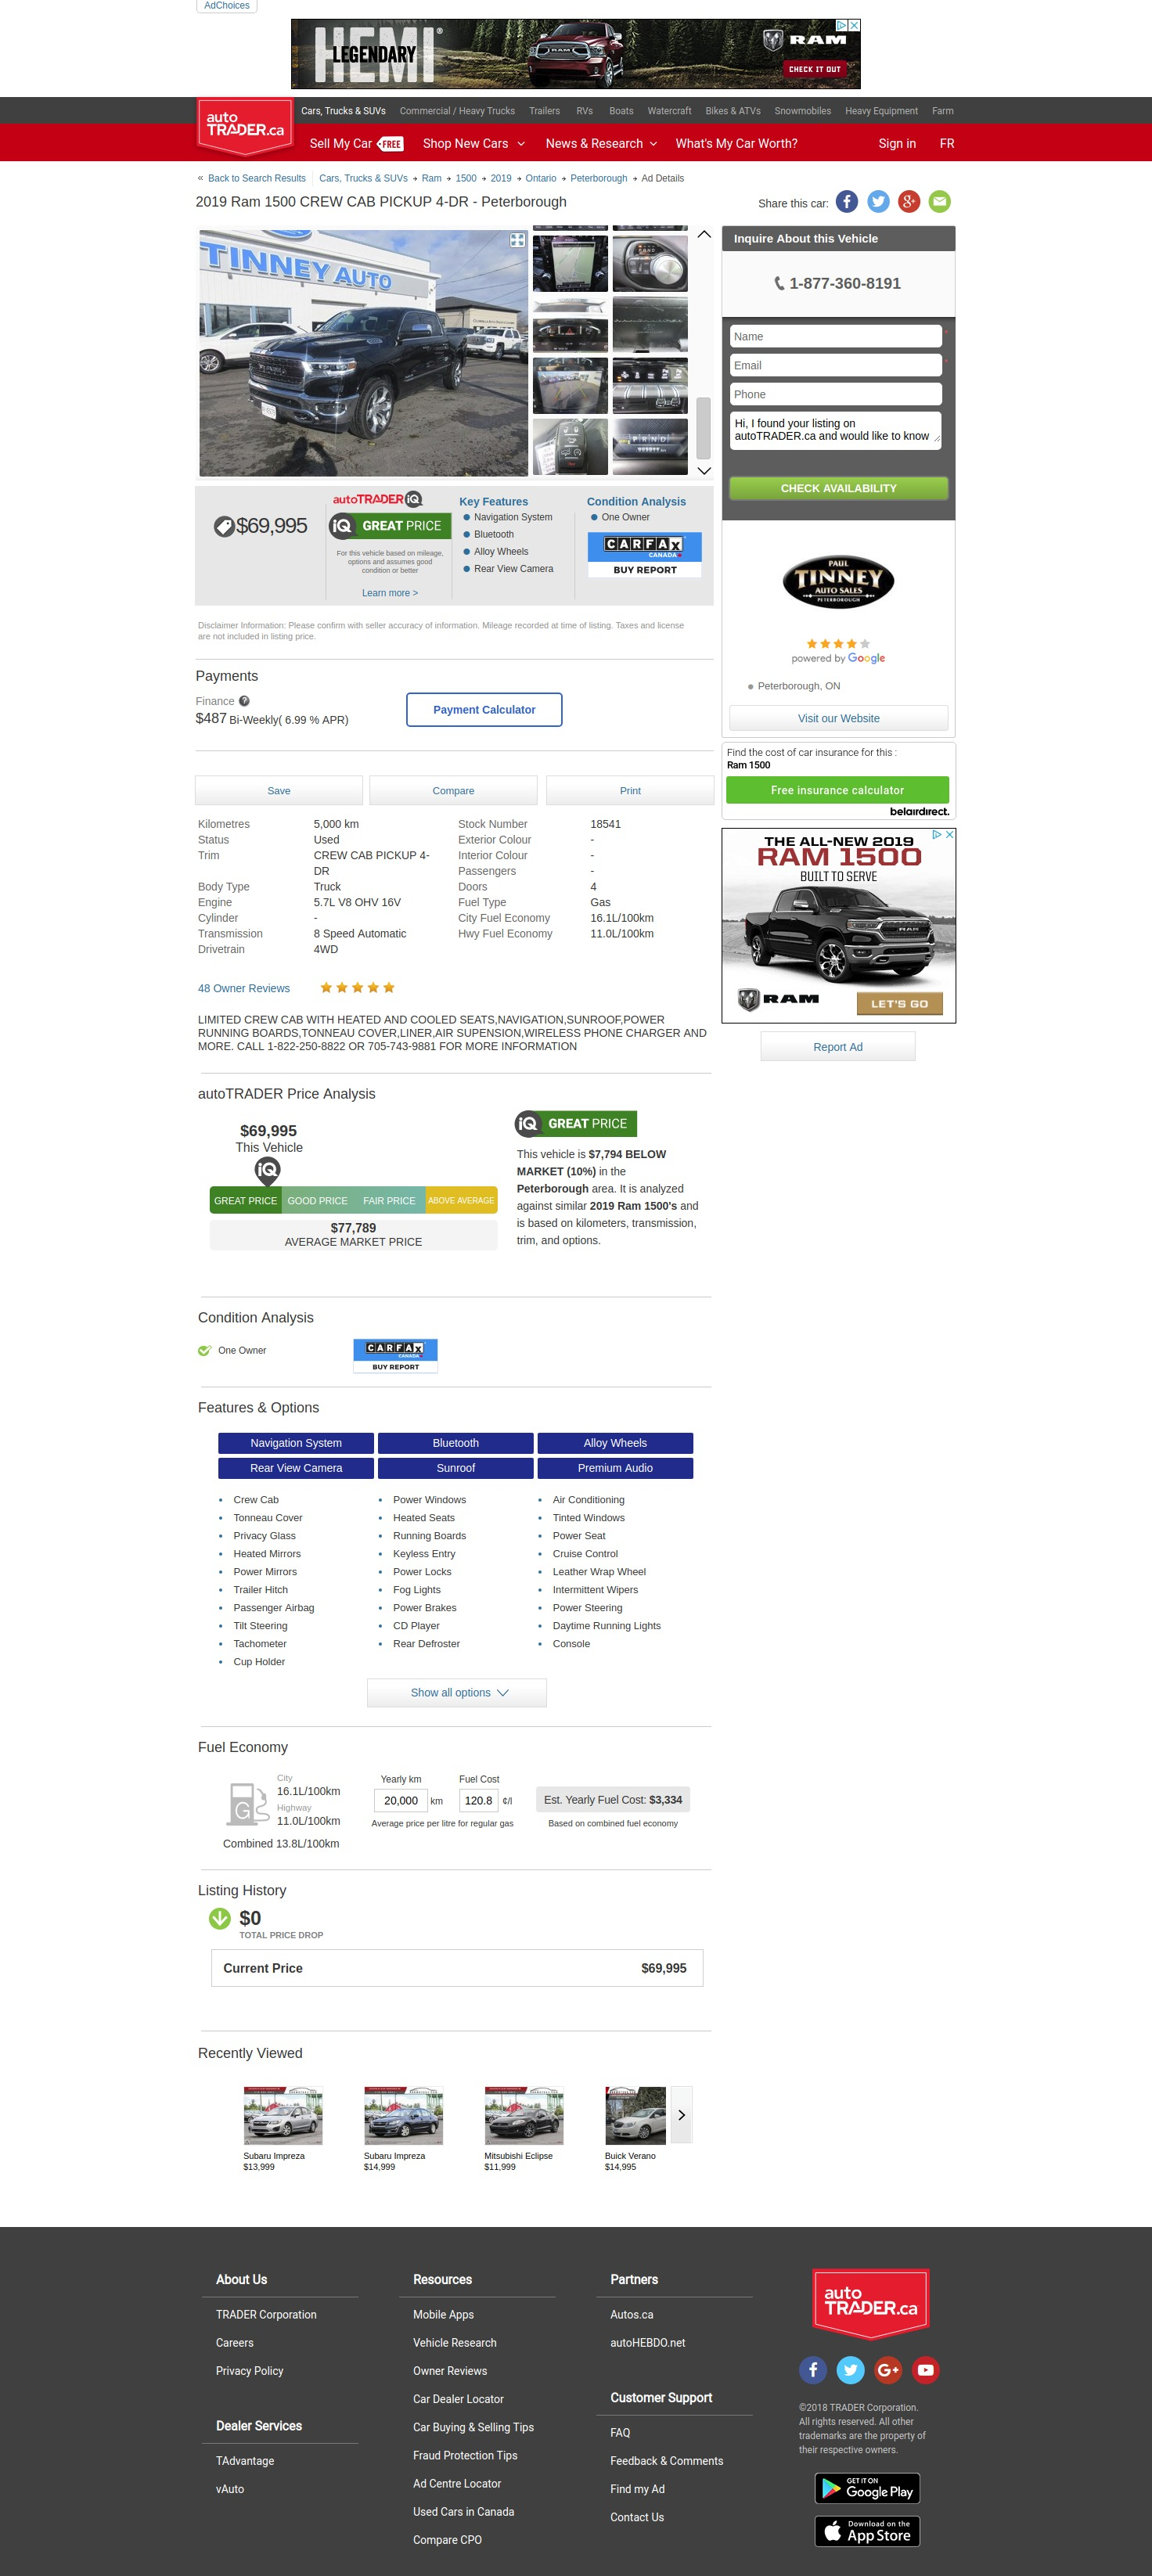car: (697, 467, 713, 478)
